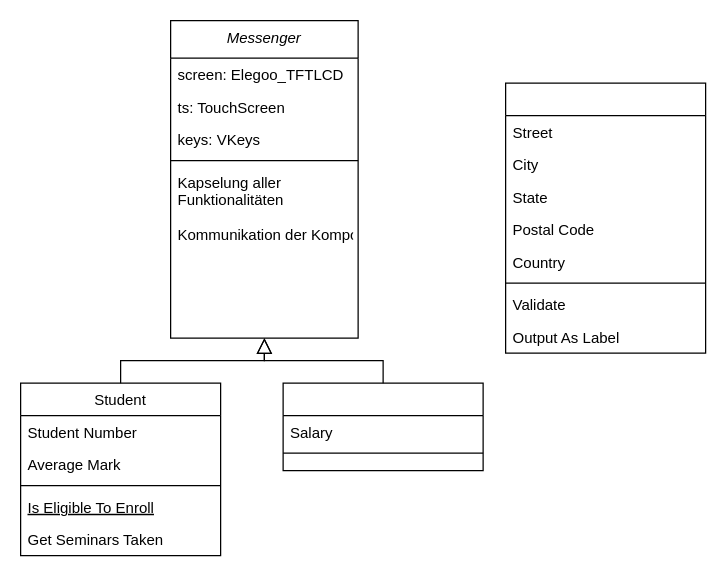
Some shapes in this 726 by 576 pixel diagram are drawn without their labels. The shapes that lost their labels are listed below. From the top down, each one's box as (x1, y1, x2, y2) in pixels, then its label:
(504, 82, 706, 353): Address
(282, 382, 483, 471): Professor
